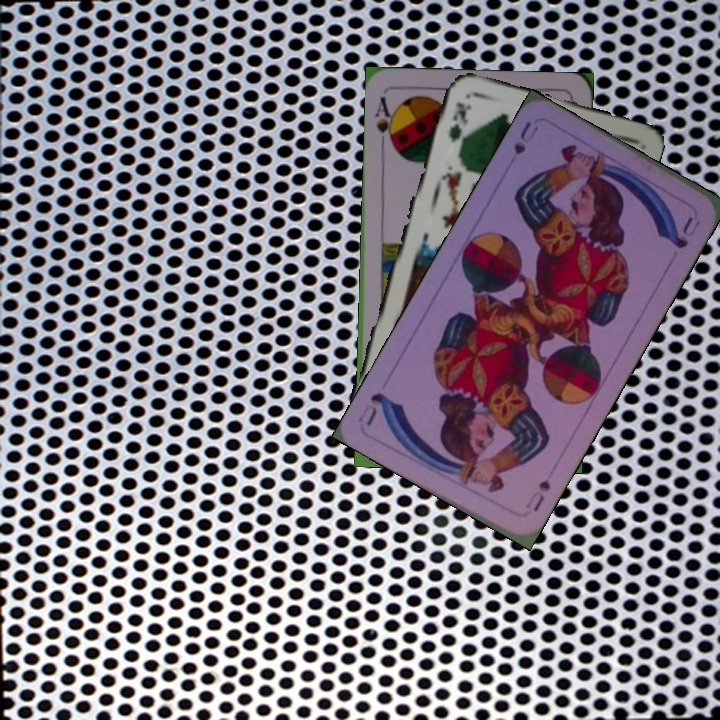GK: (444, 98, 473, 145)
SA: (371, 93, 398, 151)
SU: (509, 117, 541, 157), (521, 475, 553, 514)
